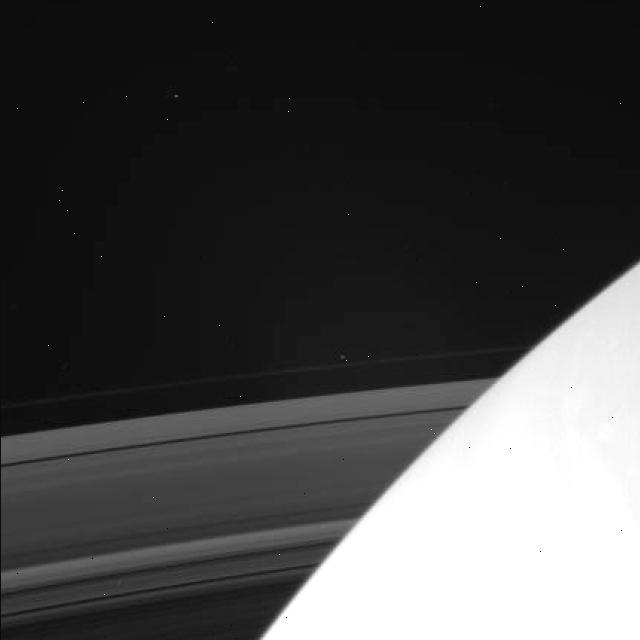Saturn: (0, 190, 640, 640)
